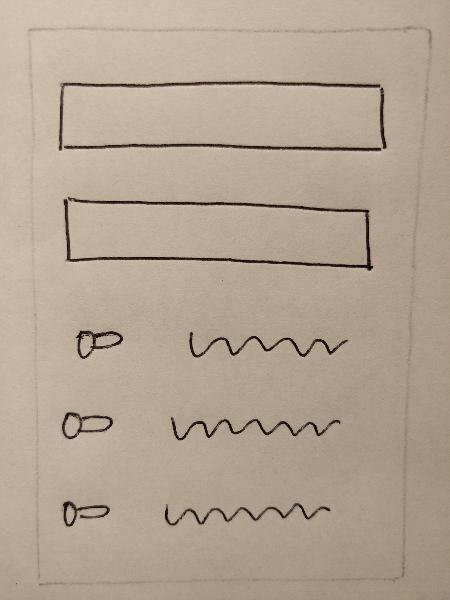switch: (68, 321, 132, 369), (54, 396, 118, 444), (53, 490, 117, 538)
text: (176, 322, 354, 373), (165, 395, 343, 446), (156, 482, 334, 533)
text_input: (50, 69, 394, 166), (52, 191, 383, 278)
